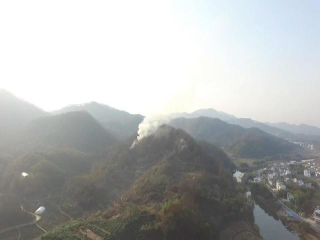smoke: (126, 110, 173, 150)
